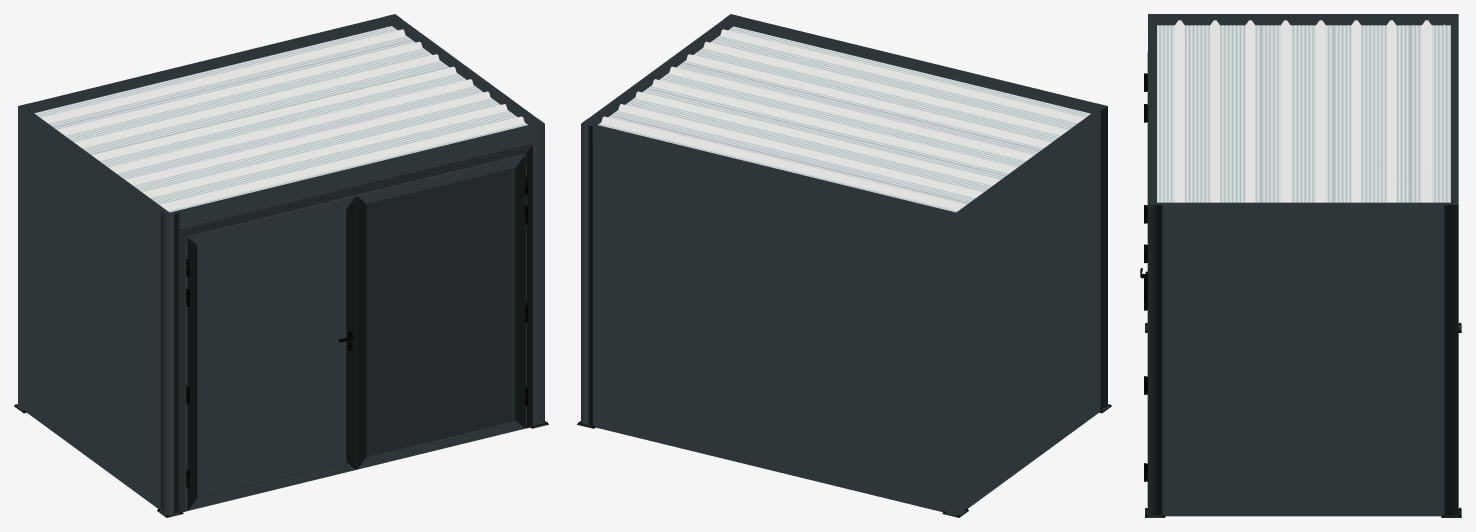
3 renders of one model, left to right at view 1: azimuth 30°, elevation 25°; view 2: azimuth 150°, elevation 25°; view 3: azimuth 270°, elevation 25°, orthographic. The views are drawn at different scales.
Visible parts, largest first — view 1: priximbattable_net_abris_de_rangement_13450_abri_de_rangemen, folha, folha_2, porta_avec_hublot; view 2: priximbattable_net_abris_de_rangement_13450_abri_de_rangemen; view 3: priximbattable_net_abris_de_rangement_13450_abri_de_rangemen, folha.
Boxes of the visible parts, x1,y1,x2,y2 form: priximbattable_net_abris_de_rangement_13450_abri_de_rangemen: (14, 14, 548, 517); folha: (356, 154, 527, 469); folha_2: (186, 195, 356, 510); porta_avec_hublot: (179, 143, 532, 512); priximbattable_net_abris_de_rangement_13450_abri_de_rangemen: (577, 14, 1111, 517); priximbattable_net_abris_de_rangement_13450_abri_de_rangemen: (1145, 14, 1461, 517); folha: (1144, 137, 1148, 505).
Size of the model in its own units: 324 by 244 by 228.
Materials: 1 (1 with a texture image).
